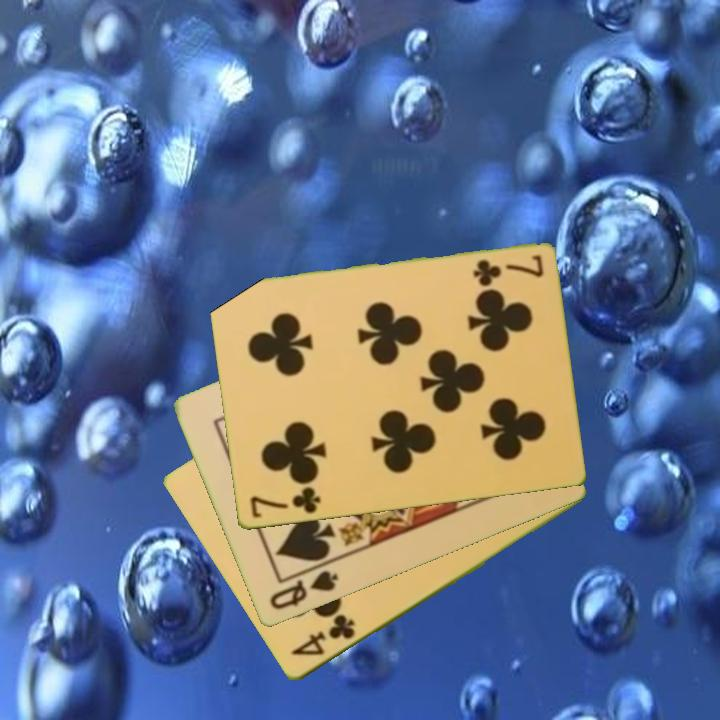4c: (287, 611, 358, 660)
7c: (246, 483, 323, 521), (469, 252, 546, 288)
Qs: (265, 567, 342, 613)
